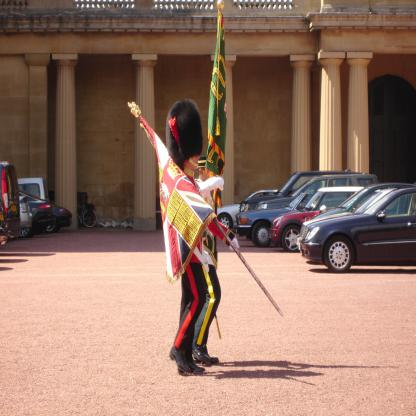Car: (216, 168, 416, 274), (0, 160, 73, 248)
